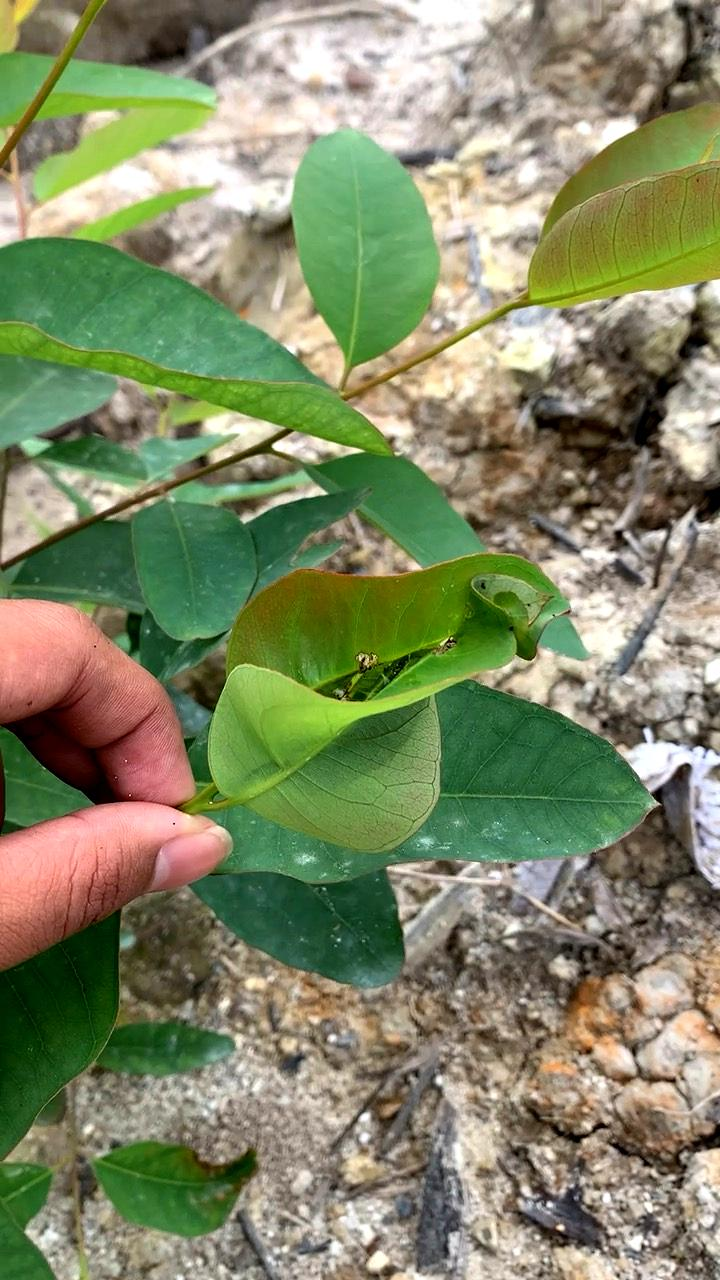Leaf Roller - Leaf: (131, 540, 590, 860)
